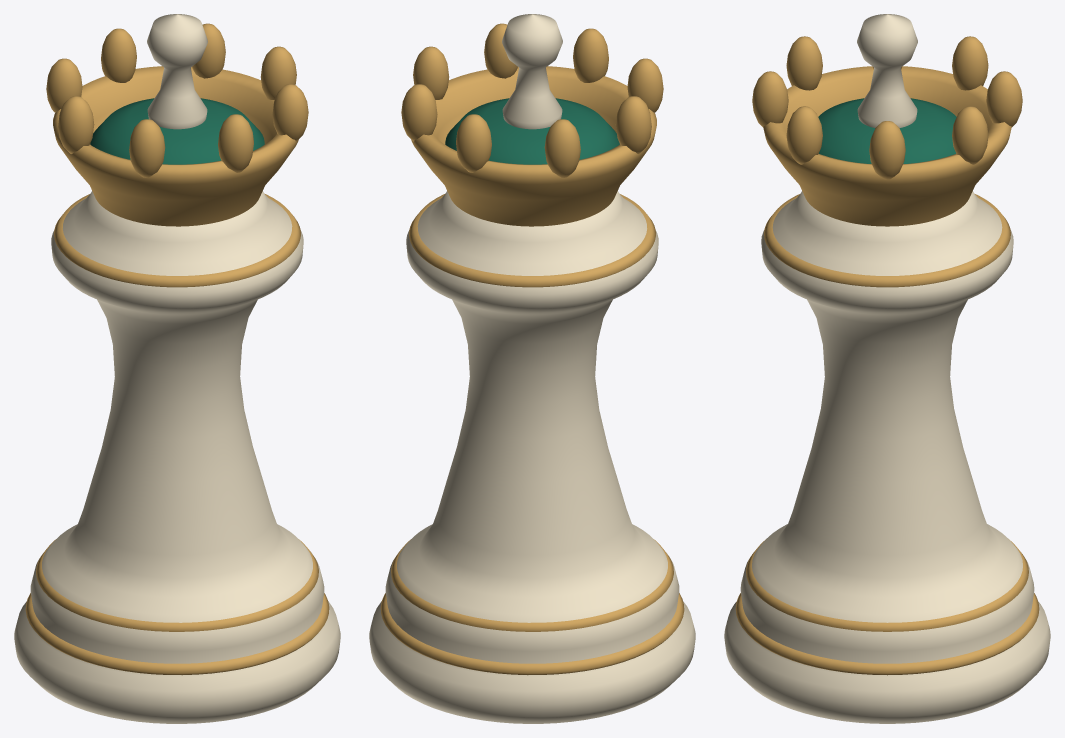
The model's file is queen-real.glb.
The picture shows the model from 3 angles, left to right: view 1: azimuth 30°, elevation 25°; view 2: azimuth 150°, elevation 25°; view 3: azimuth 270°, elevation 25°; orthographic projection.
Visible parts, largest first — view 1: Queen base porcelain, Queen gold detailing, Queen jade cushion; view 2: Queen base porcelain, Queen gold detailing, Queen jade cushion; view 3: Queen base porcelain, Queen gold detailing, Queen jade cushion.
Part boxes in pixels (bbox=[...]): Queen base porcelain: bbox=[14, 14, 340, 723]; Queen gold detailing: bbox=[25, 23, 329, 675]; Queen jade cushion: bbox=[90, 98, 264, 164]; Queen base porcelain: bbox=[369, 14, 695, 723]; Queen gold detailing: bbox=[380, 23, 684, 675]; Queen jade cushion: bbox=[445, 98, 619, 164]; Queen base porcelain: bbox=[724, 14, 1050, 723]; Queen gold detailing: bbox=[735, 36, 1039, 675]; Queen jade cushion: bbox=[818, 98, 956, 163].
Bounding box in the file's own units: 0.6 × 1.32 × 0.6.
